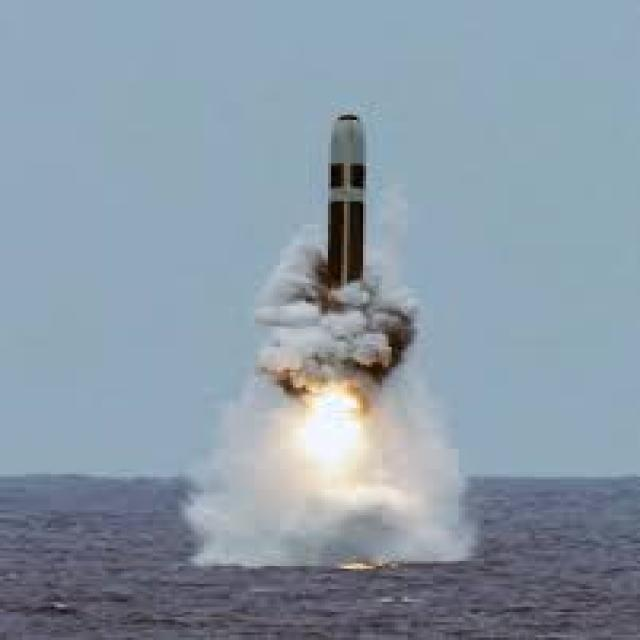missile: (307, 110, 382, 423)
